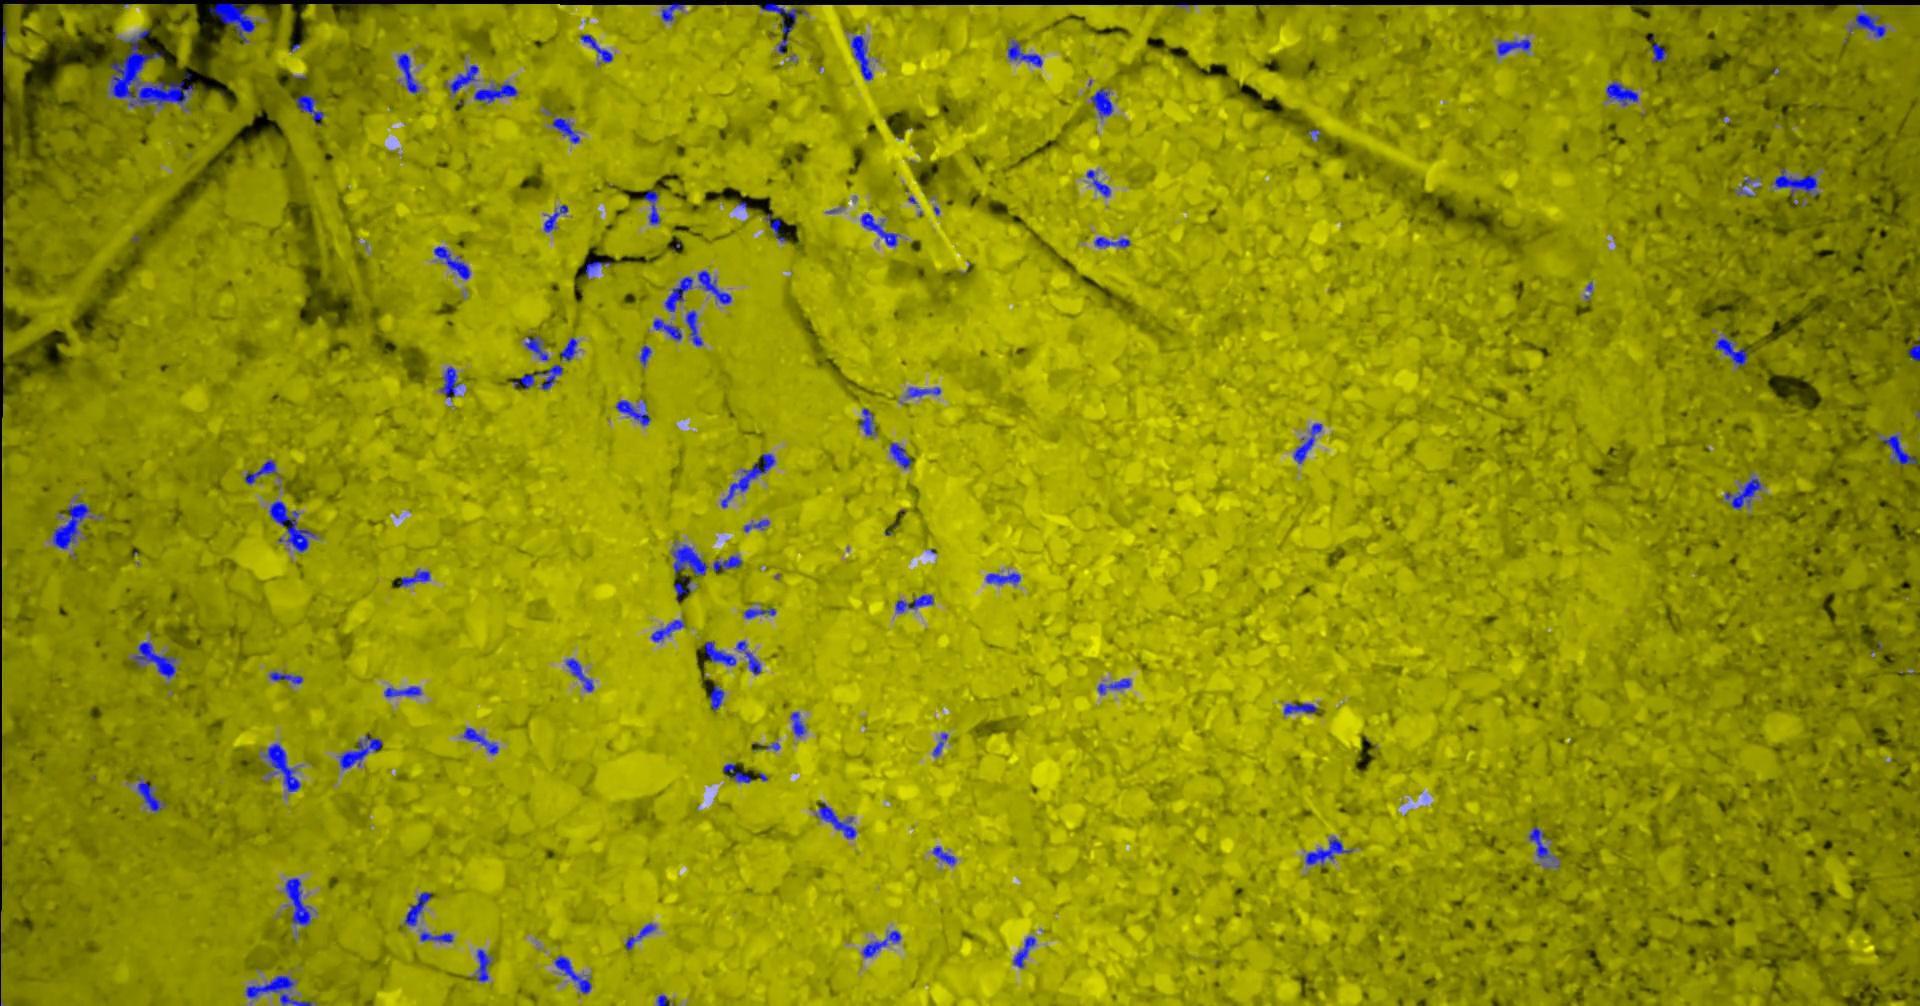ant: (720, 453, 775, 507), (757, 3, 804, 53), (269, 500, 314, 551), (245, 976, 312, 1005), (210, 3, 255, 42), (263, 743, 300, 791), (52, 503, 90, 547), (132, 641, 175, 678), (815, 801, 856, 838), (1305, 836, 1352, 868), (338, 735, 382, 768), (554, 955, 590, 993), (1773, 166, 1818, 196), (1724, 474, 1761, 509), (860, 212, 898, 246), (284, 876, 311, 925), (1528, 826, 1558, 866), (512, 365, 563, 389), (433, 246, 469, 279), (1293, 423, 1321, 464), (697, 271, 731, 304), (672, 544, 706, 575), (1881, 434, 1916, 465), (1713, 335, 1747, 366), (850, 36, 872, 80), (862, 930, 900, 956), (1007, 39, 1043, 67), (664, 276, 692, 311), (463, 727, 498, 754), (579, 34, 612, 62), (565, 658, 593, 691), (404, 890, 430, 925), (1849, 11, 1884, 37), (615, 400, 650, 426), (295, 94, 323, 124), (472, 83, 517, 102), (137, 779, 164, 810), (450, 64, 477, 93), (244, 459, 276, 484), (623, 923, 655, 949), (397, 53, 418, 93), (650, 619, 684, 641), (737, 640, 759, 674), (1606, 81, 1638, 105), (703, 641, 735, 666), (551, 117, 579, 144), (1090, 86, 1112, 117), (439, 366, 461, 398), (895, 594, 933, 612), (543, 205, 568, 232), (651, 318, 681, 340), (1013, 936, 1035, 967), (1086, 169, 1110, 196), (684, 310, 702, 345), (392, 570, 429, 587), (764, 212, 785, 241), (889, 442, 910, 467), (643, 191, 659, 224), (723, 763, 750, 782), (524, 337, 547, 359), (1097, 678, 1131, 694), (1497, 39, 1530, 55), (712, 555, 742, 572), (1650, 36, 1667, 62), (858, 406, 875, 434), (476, 948, 490, 981), (662, 3, 684, 22), (985, 572, 1020, 584), (383, 686, 422, 697), (673, 575, 691, 600), (269, 671, 302, 683), (932, 846, 955, 864), (560, 337, 577, 361), (1283, 702, 1317, 714), (584, 260, 610, 276), (419, 931, 452, 942), (790, 711, 805, 735), (743, 607, 775, 619), (709, 683, 723, 709), (1095, 236, 1129, 246), (905, 387, 940, 398), (932, 733, 947, 756), (743, 520, 768, 532), (639, 345, 651, 365), (1907, 344, 1919, 359), (0, 19, 5, 47), (657, 995, 669, 1005)
